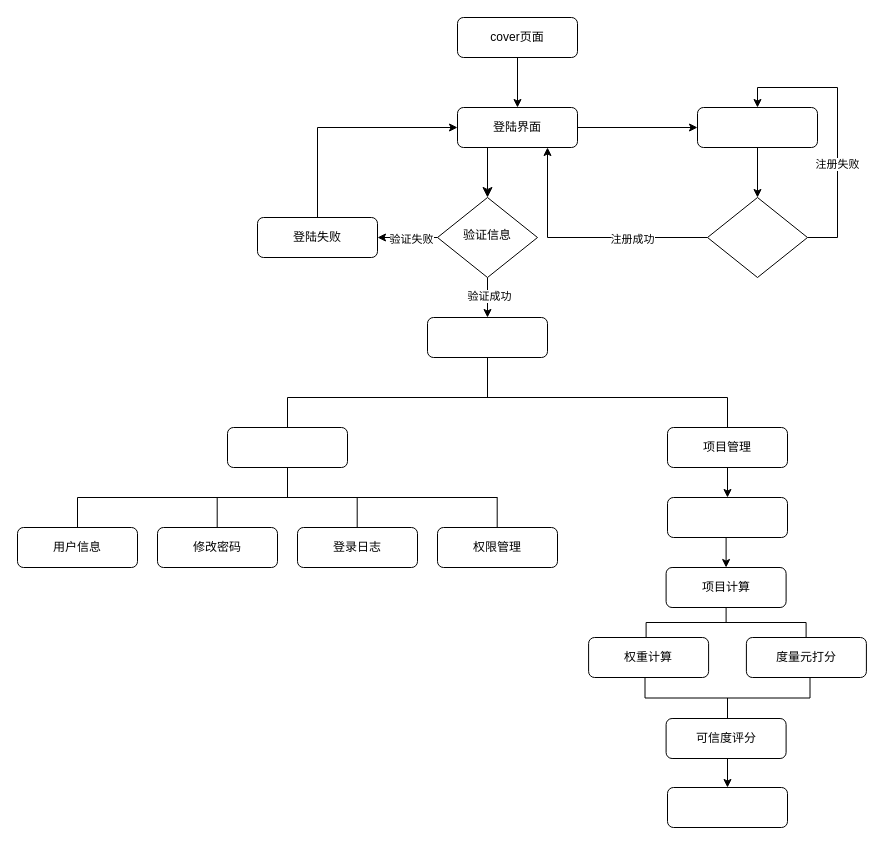
Image size: 884x845. Some labels were removed from this diagram. Each missing label, with the centre of its shape:
"主页面" belongs at point (487, 337).
"可信度报告导出" belongs at point (727, 807).
"注册" belongs at point (757, 237).
"注册界面" belongs at point (757, 127).
"用户管理" belongs at point (287, 447).
"项目信息" belongs at point (727, 517).
